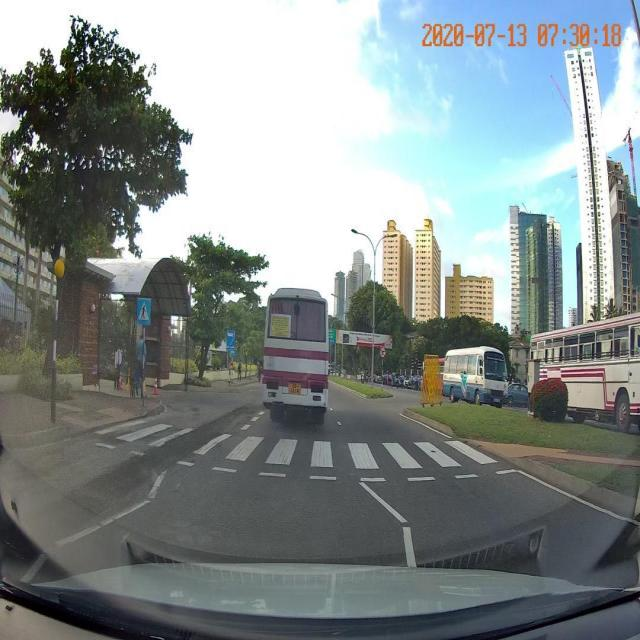Liniya 1: (518, 470, 639, 528), (52, 497, 155, 549), (357, 480, 412, 524), (399, 413, 454, 439), (402, 522, 419, 567), (147, 467, 170, 500), (240, 423, 253, 431), (249, 415, 260, 423), (336, 421, 343, 425)
Perehod: (90, 418, 505, 470)
